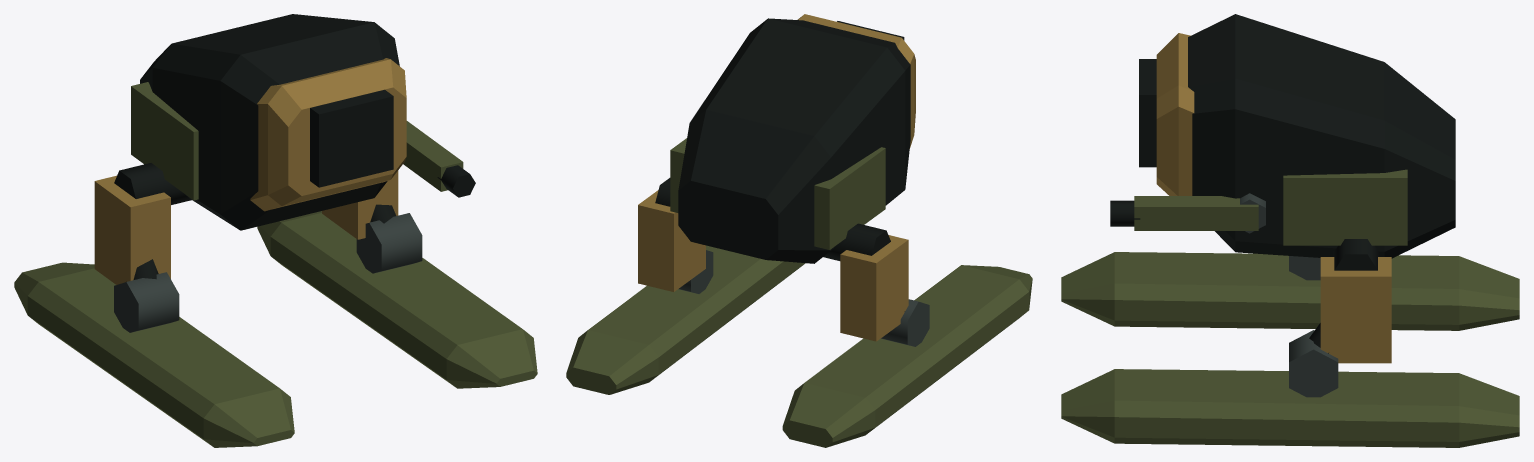
The model's file is DARTER.shadow.glb.
The picture shows the model from 3 angles, left to right: view 1: azimuth 30°, elevation 25°; view 2: azimuth 150°, elevation 25°; view 3: azimuth 270°, elevation 25°; orthographic projection. The views are drawn at different scales.
Visible parts, largest first — view 1: BodyBank_Mesh, Skate_L_Mesh, Skate_R_Mesh, Suspension_Mesh, ProjectionArm_Mesh; view 2: BodyBank_Mesh, Skate_L_Mesh, Skate_R_Mesh, Suspension_Mesh; view 3: BodyBank_Mesh, Skate_R_Mesh, Skate_L_Mesh, Suspension_Mesh, ProjectionArm_Mesh.
Boxes of the visible parts, x1,y1,x2,y2 form: BodyBank_Mesh: [131, 14, 406, 230]; Skate_L_Mesh: [14, 262, 294, 447]; Skate_R_Mesh: [257, 211, 537, 388]; Suspension_Mesh: [94, 163, 398, 284]; ProjectionArm_Mesh: [403, 121, 475, 197]; BodyBank_Mesh: [670, 14, 915, 263]; Skate_L_Mesh: [782, 265, 1032, 447]; Skate_R_Mesh: [566, 245, 805, 394]; Suspension_Mesh: [638, 178, 908, 341]; BodyBank_Mesh: [1139, 14, 1455, 258]; Skate_R_Mesh: [1061, 330, 1519, 447]; Skate_L_Mesh: [1061, 252, 1519, 330]; Suspension_Mesh: [1309, 239, 1391, 363]; ProjectionArm_Mesh: [1110, 193, 1265, 233].
Bounding box in the file's own units: 1.07 × 1.03 × 1.29.
